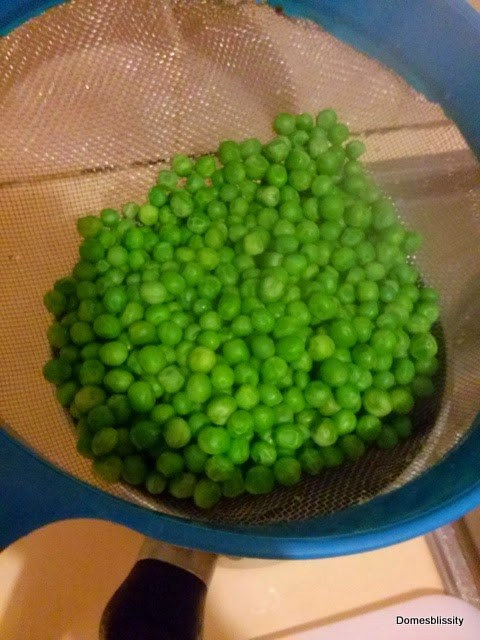boiled peas: (54, 132, 436, 488)
